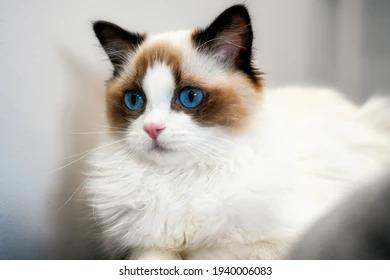ragdoll: (82, 1, 274, 187)
